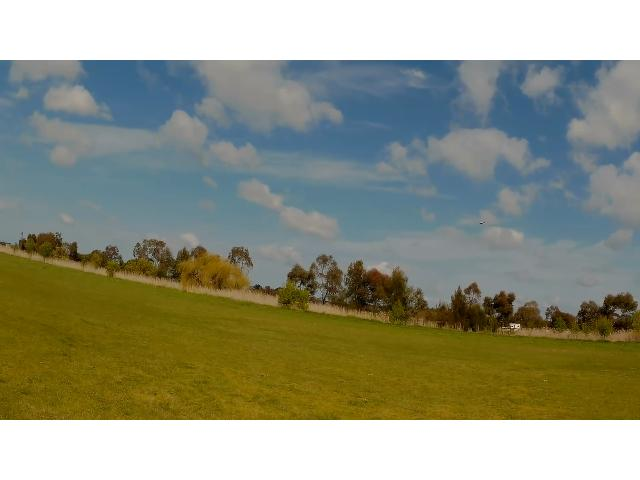Anti-Drone: (469, 213, 497, 235)
